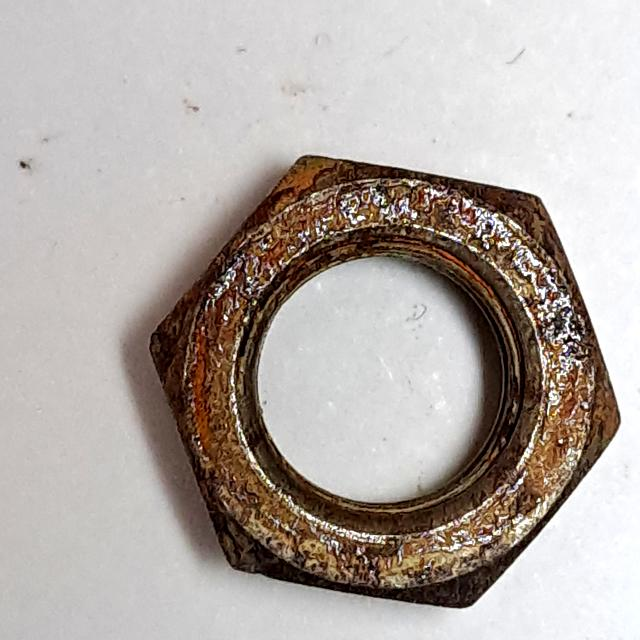Rust: (138, 139, 640, 622)
